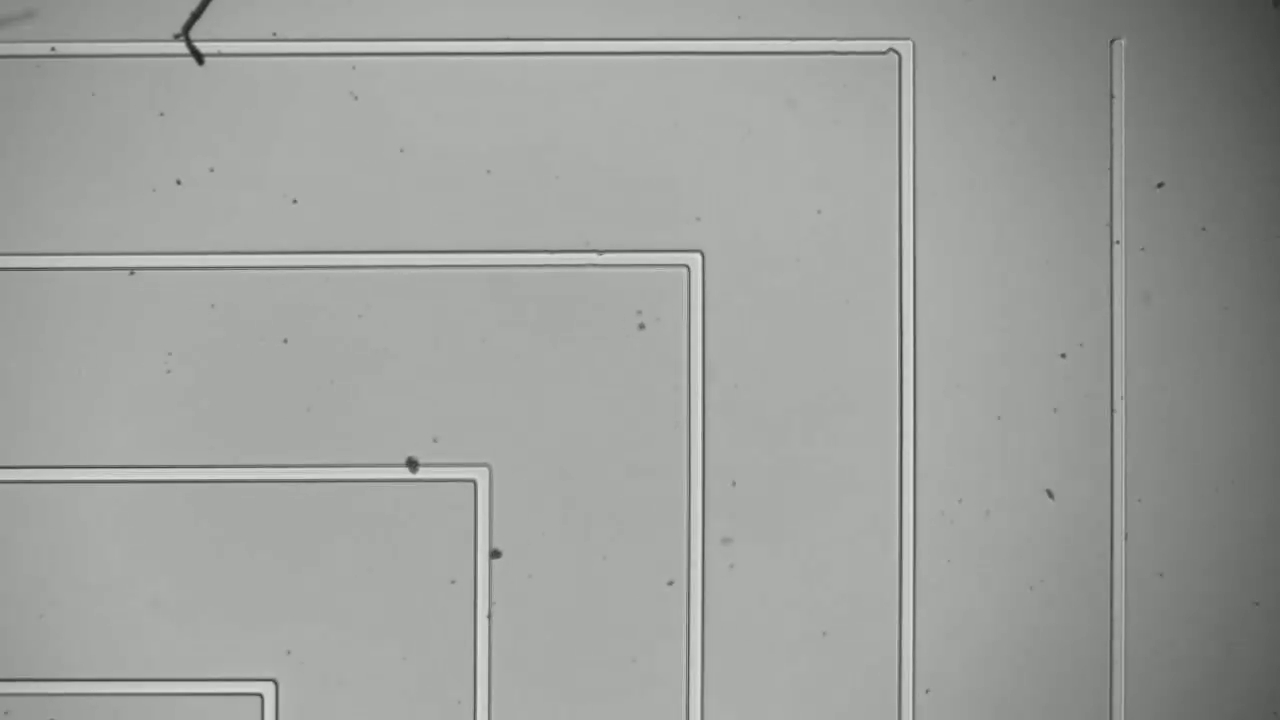edge_bite: (873, 30, 904, 58)
stains_enbedded: (395, 444, 434, 488)
